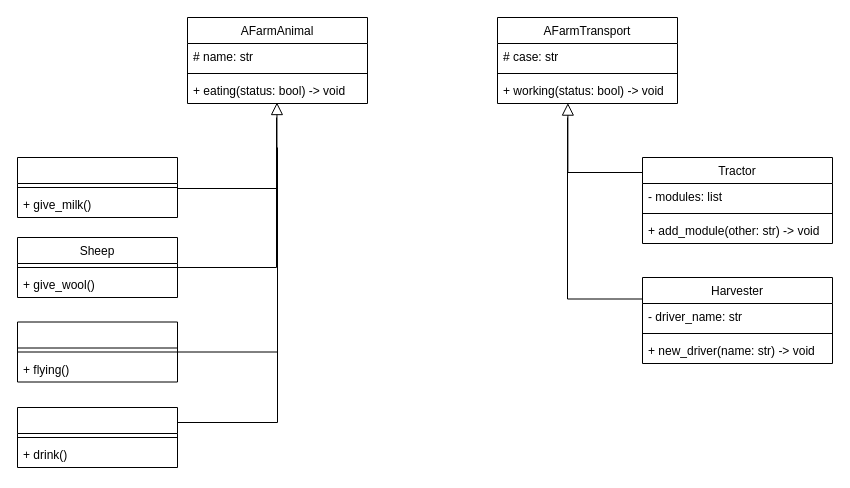
This 850x488 diagram has some shape labels left out. The shapes that lost their labels are listed below. From the top down, each one's box as (x1, y1, x2, y2) in pixels, then its label:
(16, 156, 178, 218): Cow
(16, 321, 178, 382): Chicken
(16, 406, 178, 468): Pig
